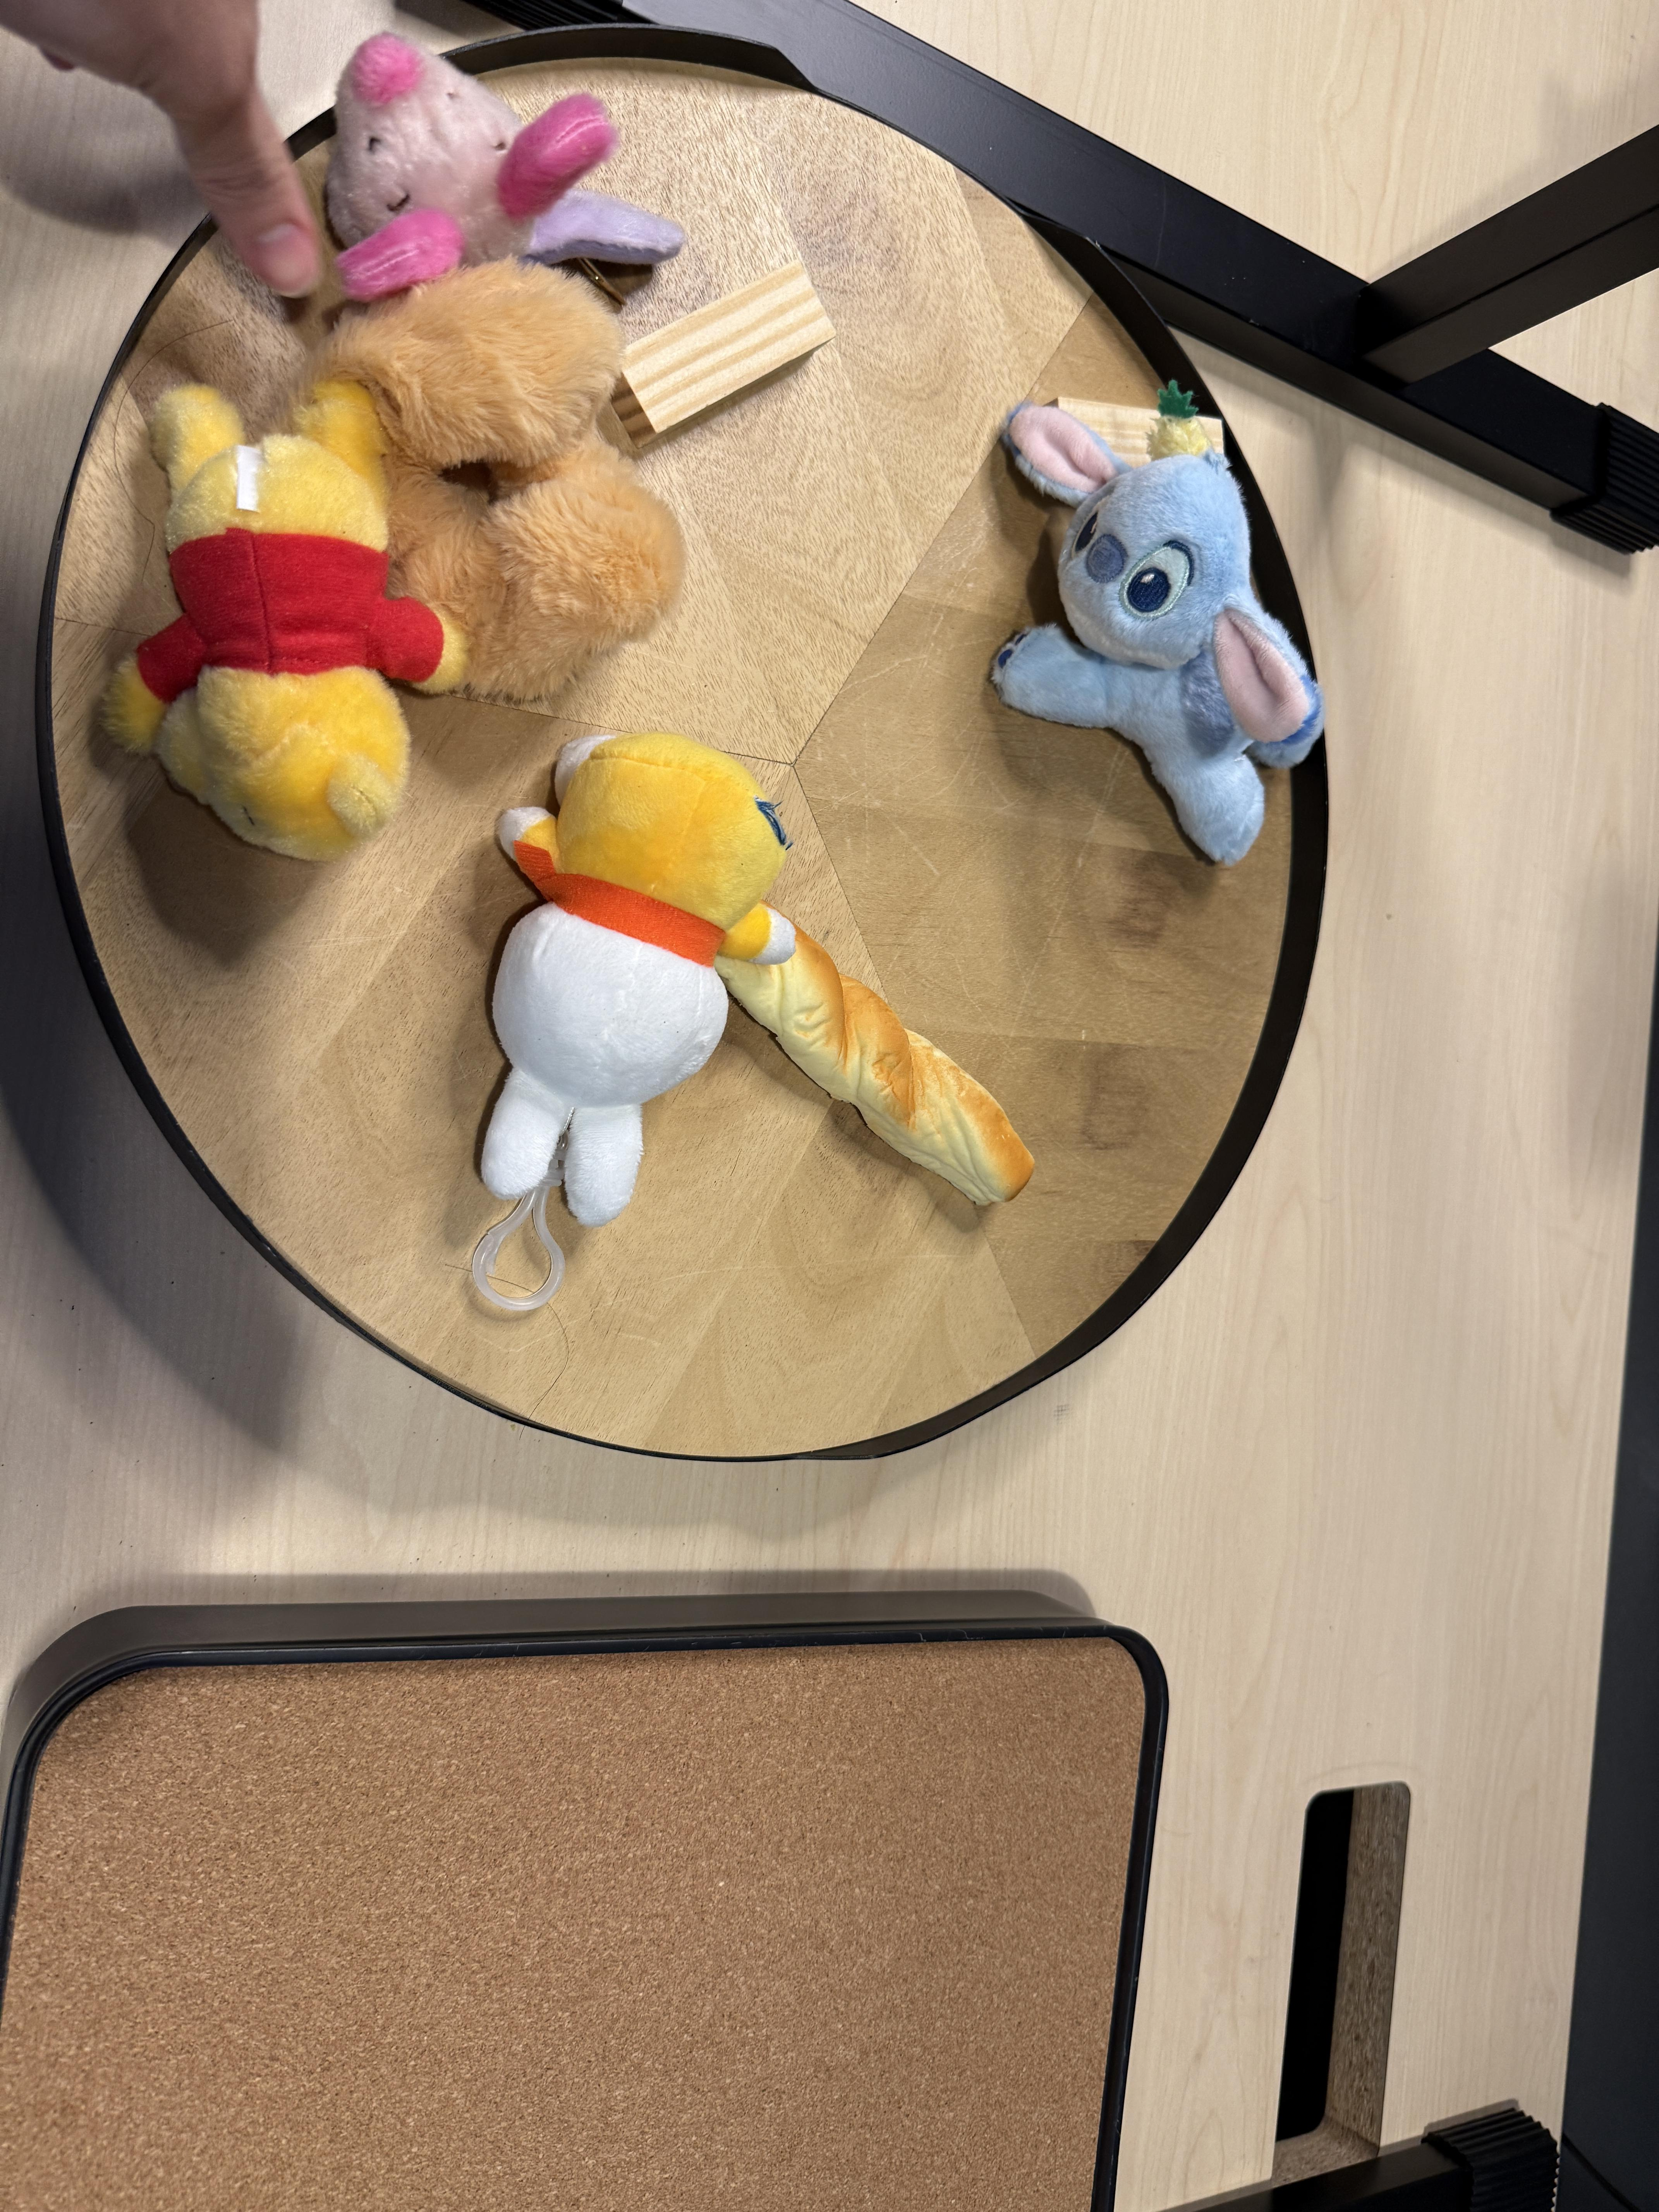block: (627, 256, 842, 448)
bread: (709, 874, 1040, 1209)
doll: (171, 260, 695, 860), (484, 712, 802, 1230), (995, 406, 1335, 862), (336, 35, 694, 289)
